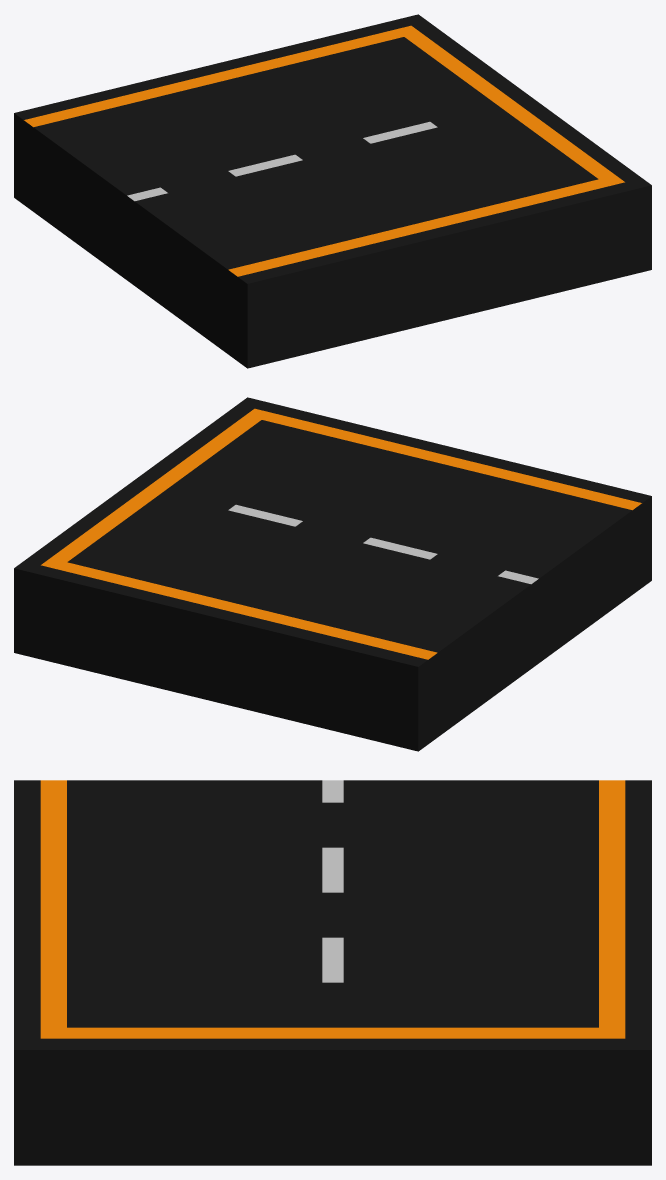
File: dead_end_road.obj
3 renders of one model, top to bottom at view 1: azimuth 30°, elevation 25°; view 2: azimuth 150°, elevation 25°; view 3: azimuth 270°, elevation 25°, orthographic. The views are drawn at different scales.
Parts seen in each view (by area): view 1: Cube_Cube.004; view 2: Cube_Cube.004; view 3: Cube_Cube.004.
Part boxes in pixels (left/top/right/bottom): Cube_Cube.004: left=14, top=14, right=651, bottom=368; Cube_Cube.004: left=14, top=397, right=651, bottom=751; Cube_Cube.004: left=14, top=780, right=651, bottom=1165.
Size of the model in its own units: 1 by 0.2 by 1.
